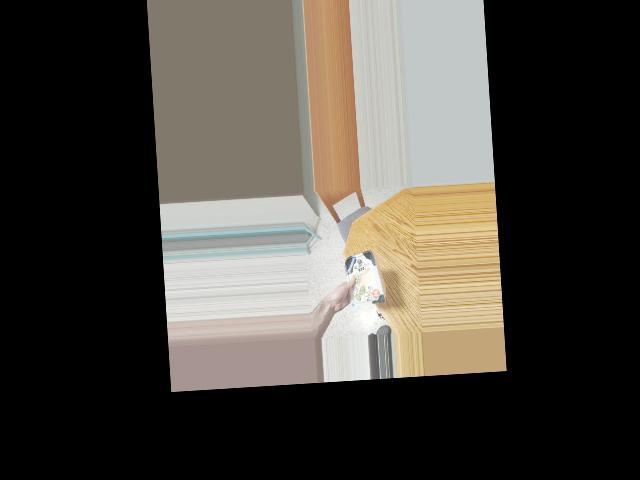cheese: (342, 250, 386, 306)
